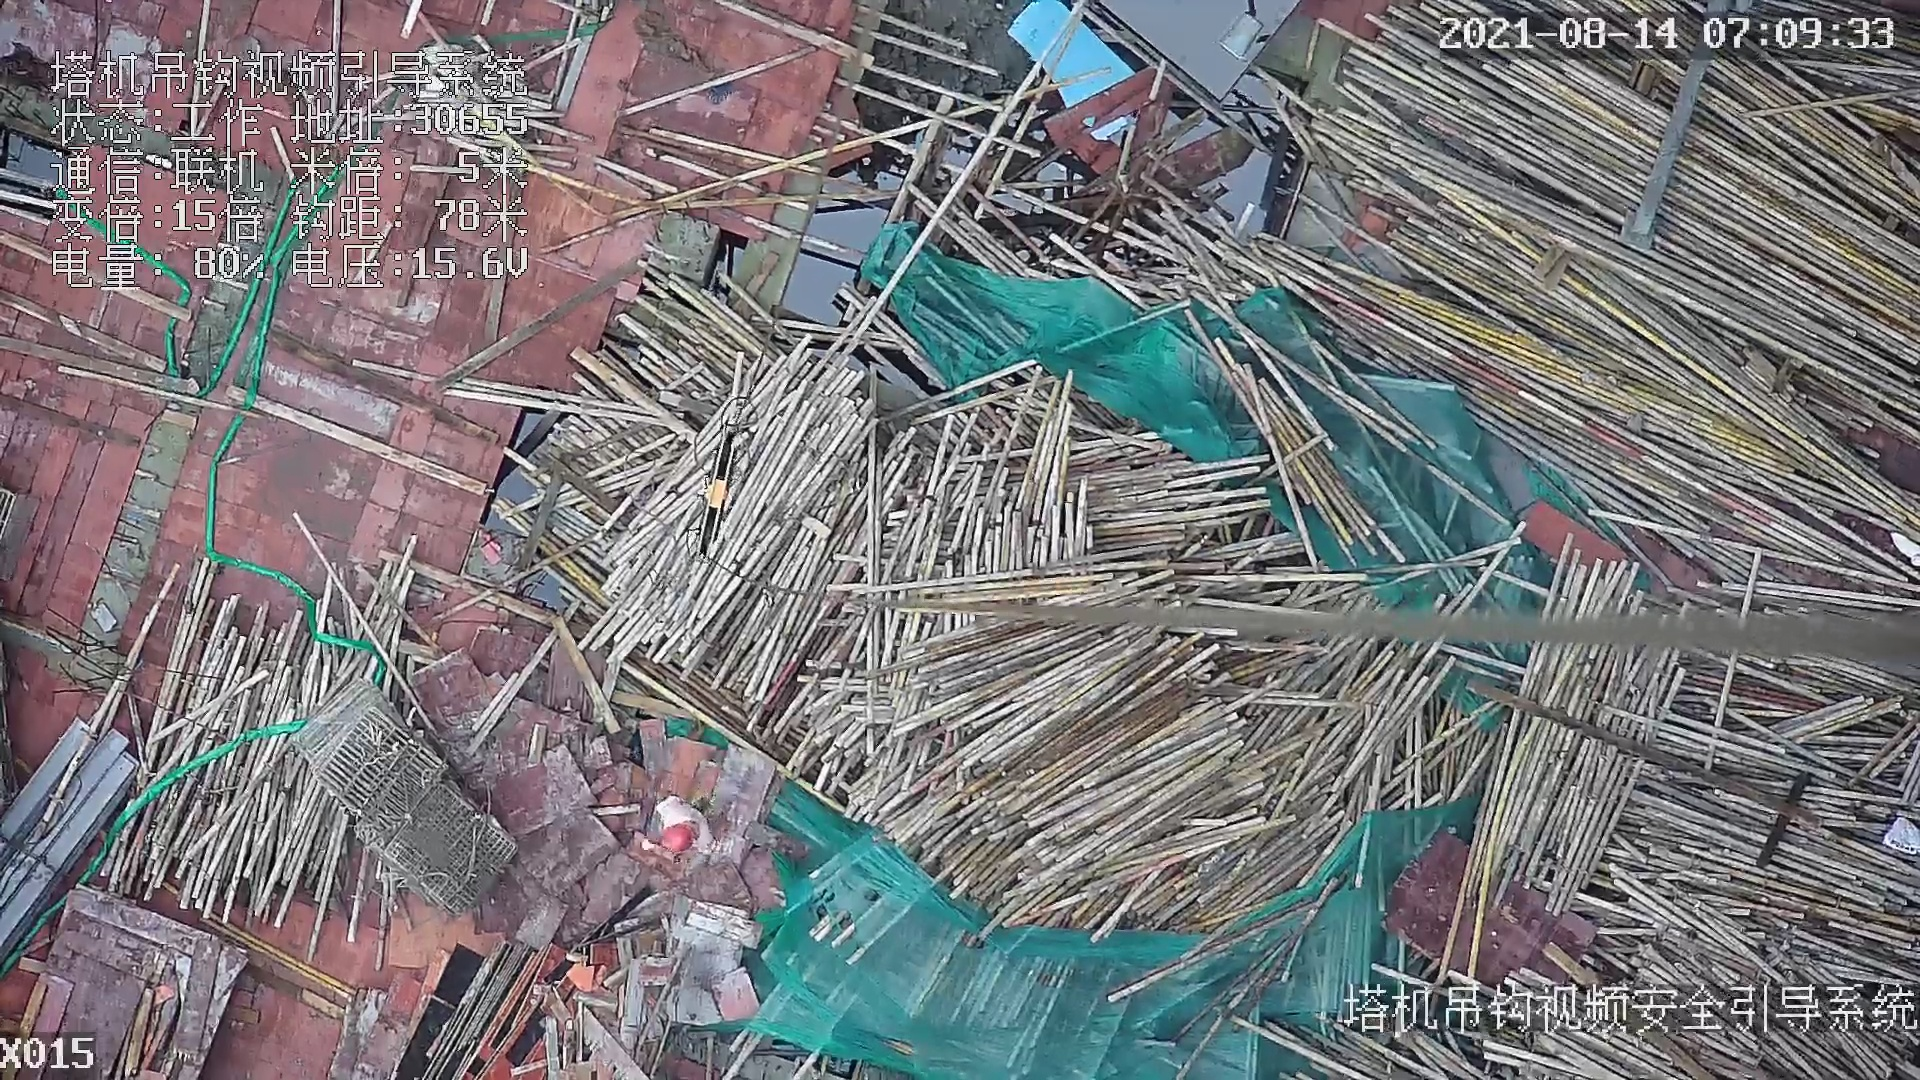helmet: (660, 827, 695, 853)
hook: (695, 421, 744, 565)
person: (655, 797, 737, 880)
